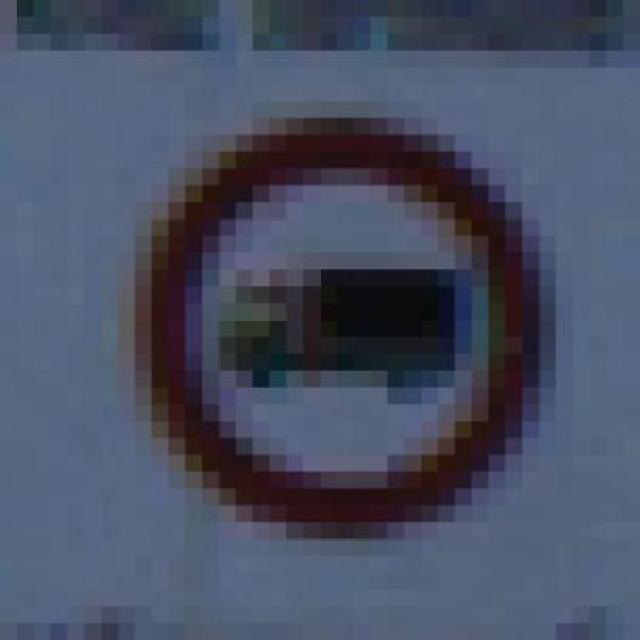Truck traffic is prohibited: (112, 91, 566, 563)
